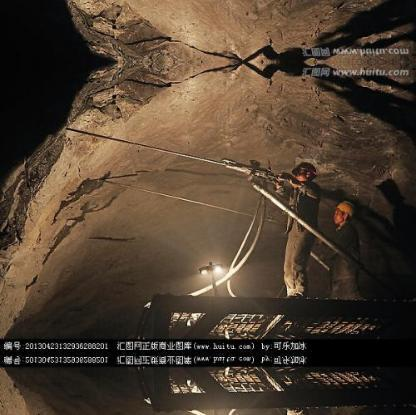helmet: (338, 194, 359, 220), (290, 154, 316, 173)
